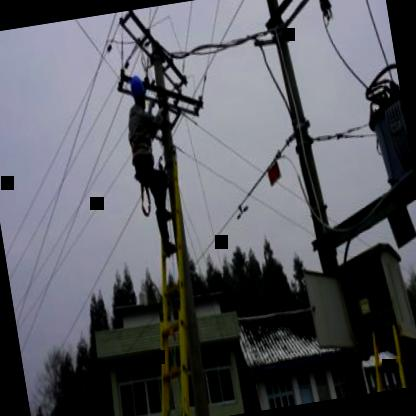helmet: (124, 68, 150, 112)
